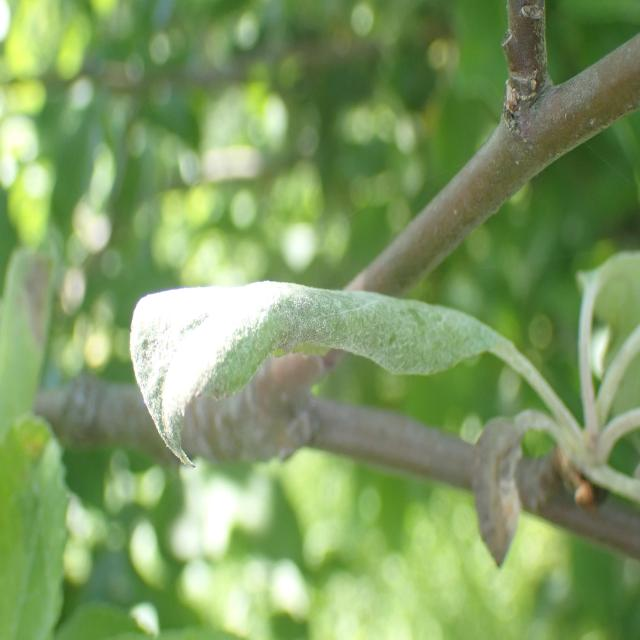Powdery_mildew: (91, 245, 548, 478)
